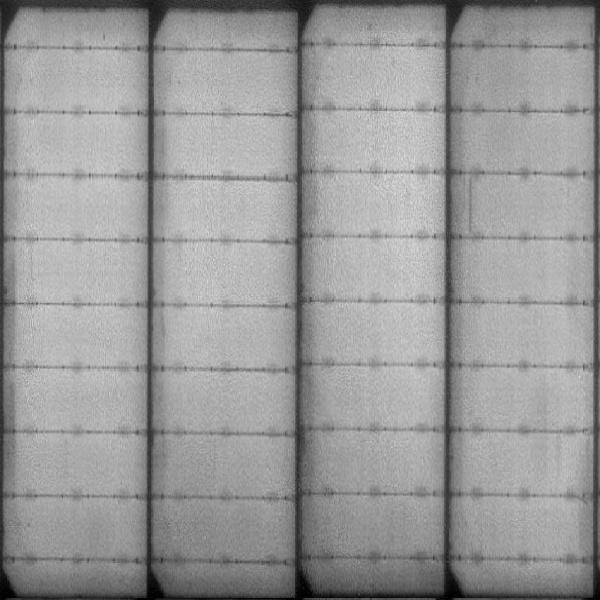scratch: (465, 172, 476, 237)
